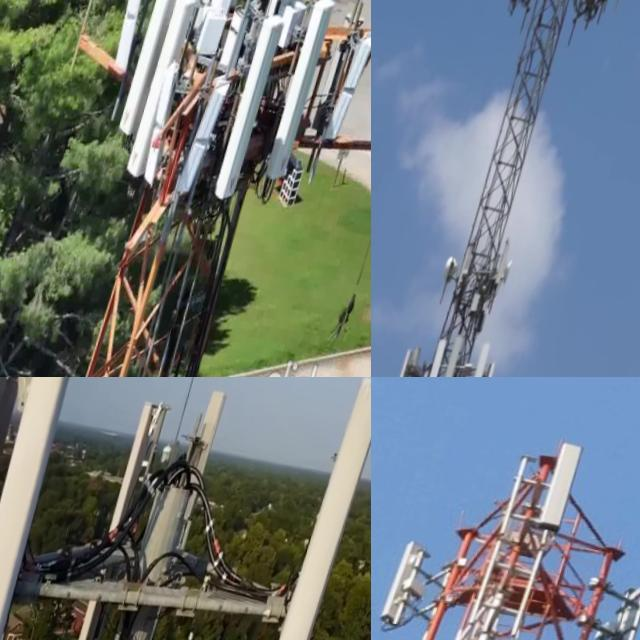GSM Antenna: (243, 377, 371, 640), (71, 396, 174, 640), (0, 377, 92, 640), (147, 390, 231, 632), (121, 0, 207, 195), (214, 7, 297, 208), (0, 377, 59, 640), (268, 0, 346, 187), (119, 0, 194, 139), (536, 437, 595, 538), (380, 532, 438, 633), (102, 0, 164, 86), (192, 9, 238, 67), (439, 329, 475, 377), (423, 332, 458, 377), (497, 239, 521, 291), (469, 340, 502, 377), (393, 345, 428, 377)
Microwave Antenna: (442, 246, 473, 289), (504, 255, 525, 291)
